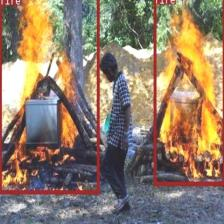fire: (0, 0, 98, 193), (153, 0, 224, 185)
